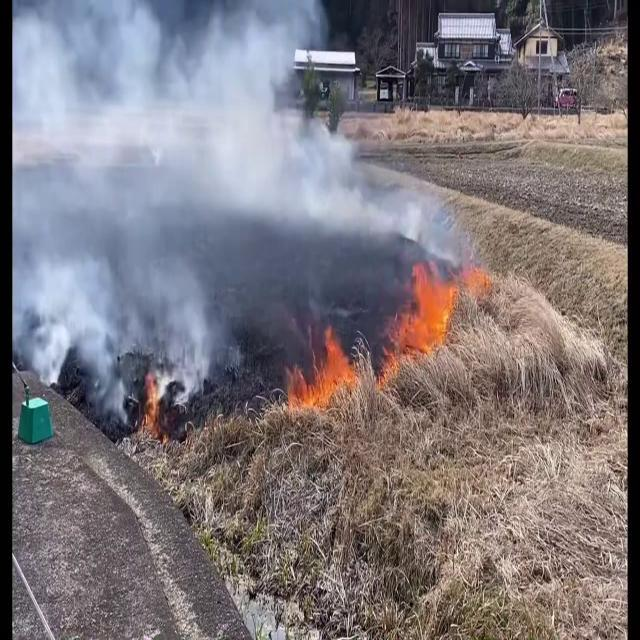Fire: (386, 255, 489, 369), (286, 322, 368, 416), (136, 364, 176, 444)
Smoke: (13, 0, 444, 413)
